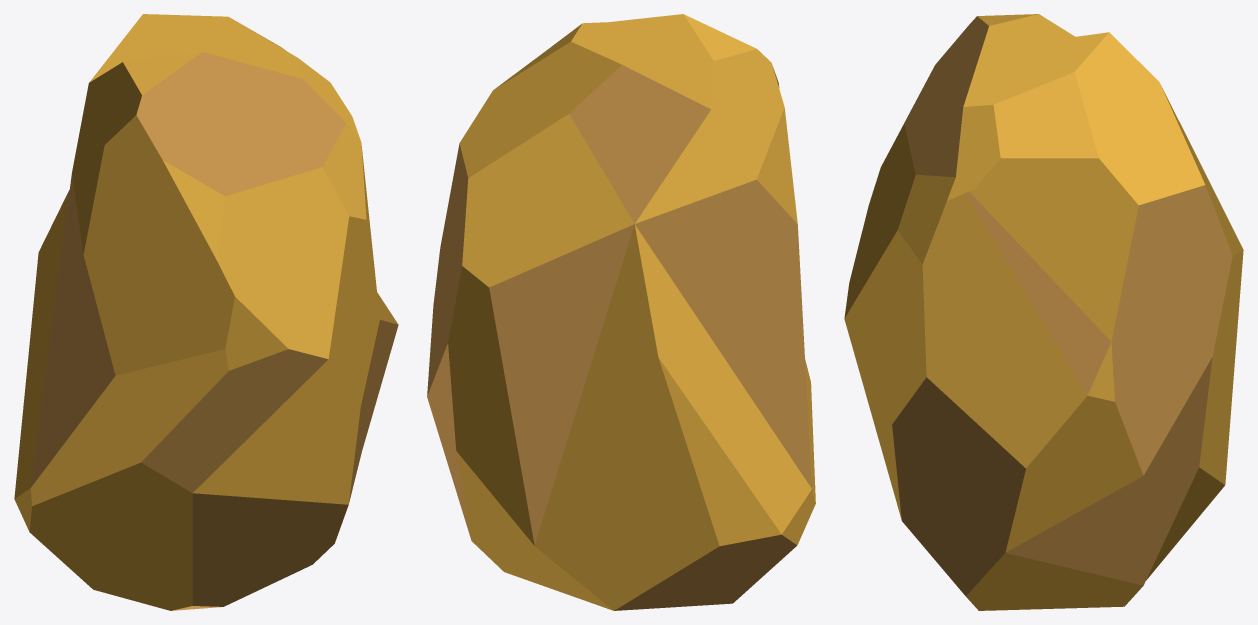
The model's file is Big rock - sand w shade.fbx.
The picture shows the model from 3 angles, left to right: view 1: azimuth 30°, elevation 25°; view 2: azimuth 150°, elevation 25°; view 3: azimuth 270°, elevation 25°; orthographic projection.
Visible parts, largest first — view 1: Icosphere; view 2: Icosphere; view 3: Icosphere.
Boxes of the visible parts, x1,y1,x2,y2 form: Icosphere: (14,14,398,610); Icosphere: (427,14,815,610); Icosphere: (844,14,1243,610).
Bounding box in the file's own units: 179 × 265 × 170.
